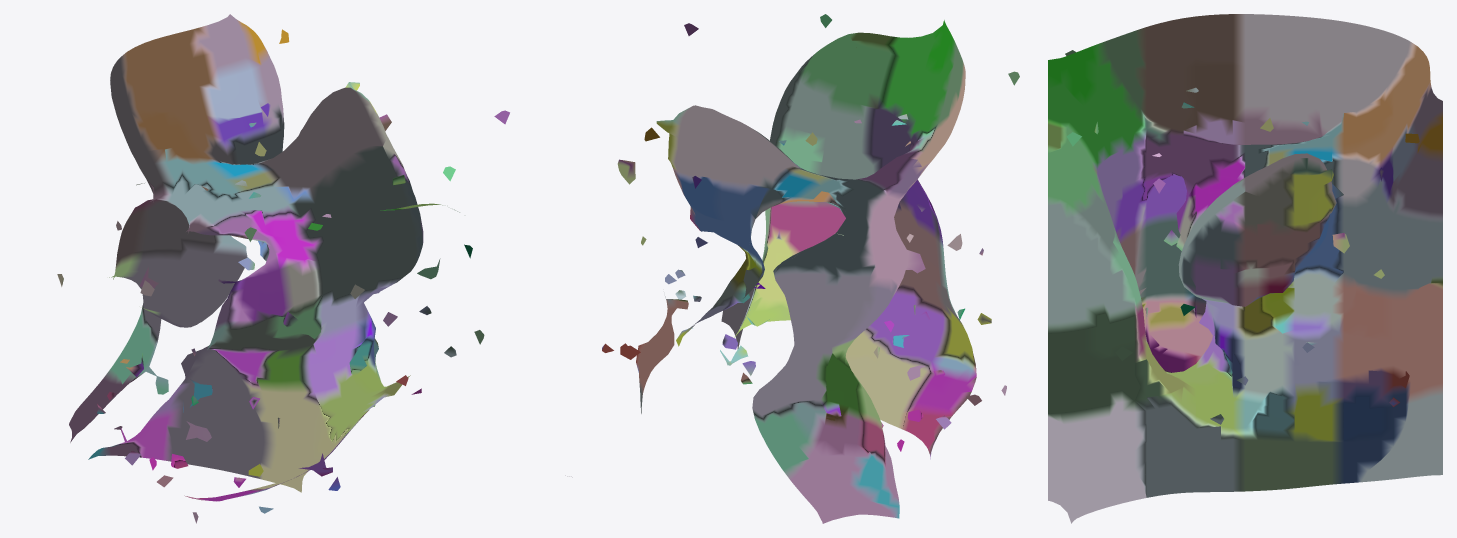
Rendered from test_poisson.glb.
The picture shows the model from 3 angles, left to right: view 1: azimuth 30°, elevation 25°; view 2: azimuth 150°, elevation 25°; view 3: azimuth 270°, elevation 25°; orthographic projection. The views are drawn at different scales.
Visible parts, largest first — view 1: test_poisson.ply; view 2: test_poisson.ply; view 3: test_poisson.ply.
Boxes of the visible parts, x1=… form: test_poisson.ply: x1=57, y1=14, x2=572, y2=523; test_poisson.ply: x1=602, y1=14, x2=1019, y2=523; test_poisson.ply: x1=1048, y1=14, x2=1442, y2=523.
Size of the model in its own units: 1.09 by 1.09 by 1.09.
